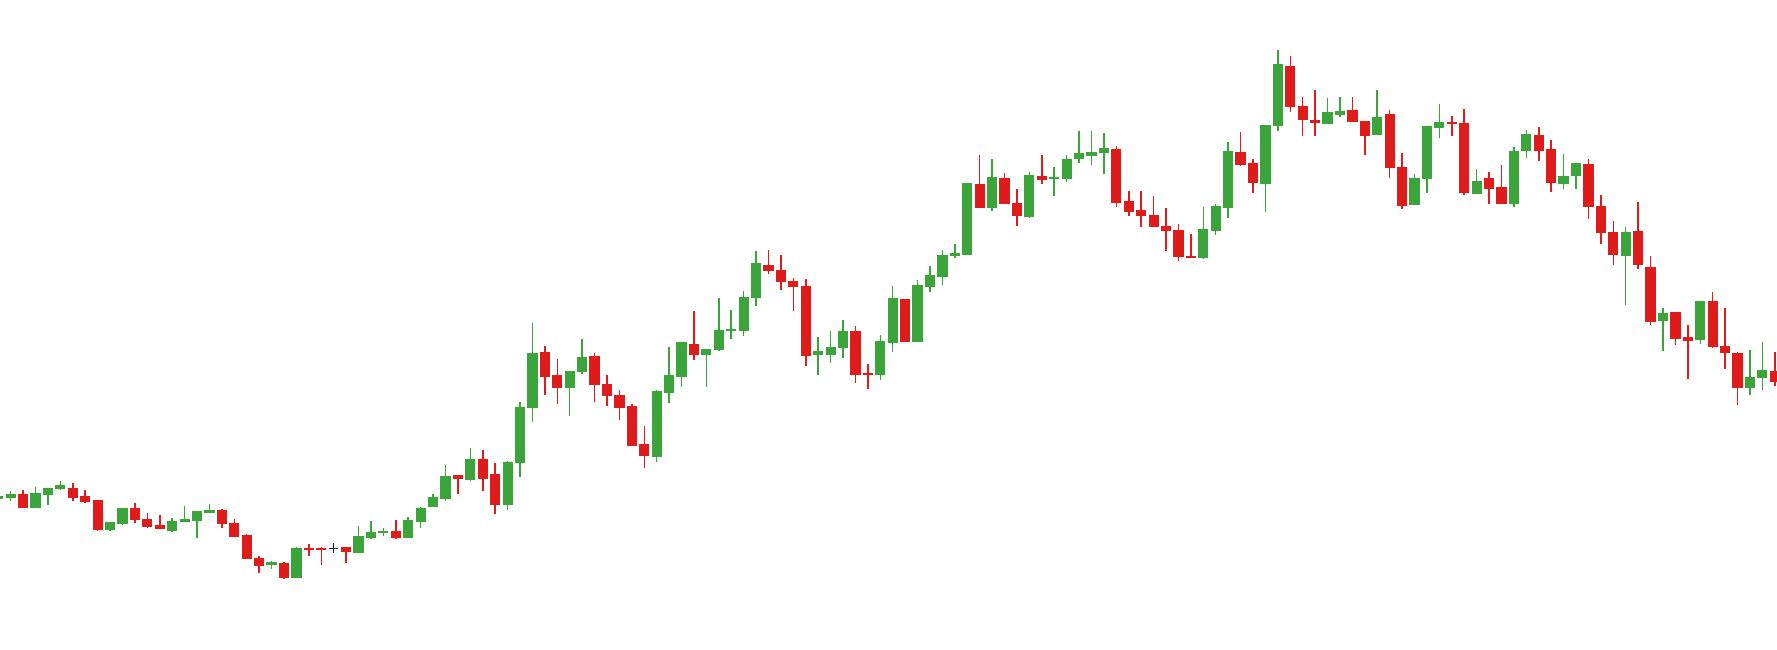buy: (1010, 163, 1222, 262)
